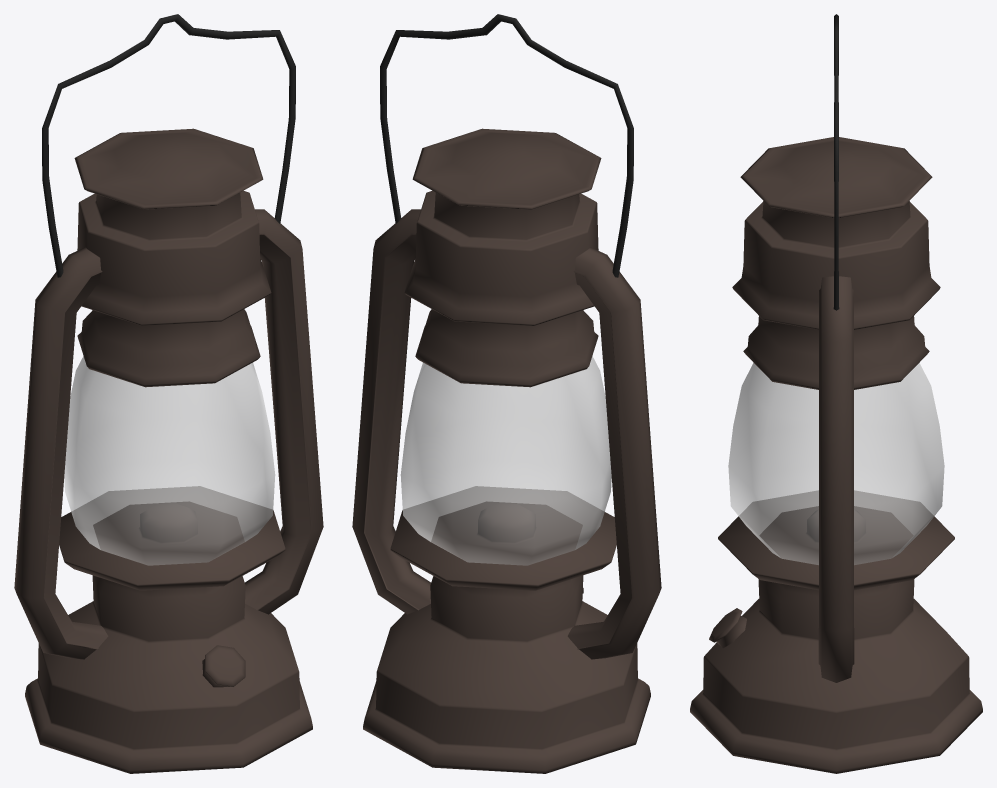
File: lowPolyLantern.glb
The picture shows the model from 3 angles, left to right: view 1: azimuth 30°, elevation 25°; view 2: azimuth 150°, elevation 25°; view 3: azimuth 270°, elevation 25°; orthographic projection.
Visible parts, largest first — view 1: Lantern_0; view 2: Lantern_0; view 3: Lantern_0.
Part boxes in pixels (left/top/right/bottom): Lantern_0: left=14, top=14, right=323, bottom=773; Lantern_0: left=352, top=14, right=661, bottom=773; Lantern_0: left=690, top=14, right=982, bottom=773.
Size of the model in its own units: 0.2109 by 0.4607 by 0.1785.
Materials: 2 (1 with a texture image).
